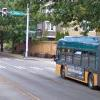Bus: (51, 34, 100, 92)
